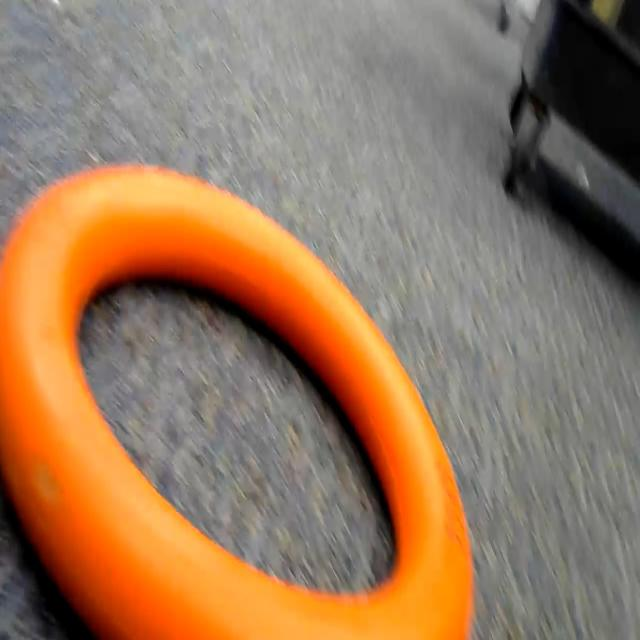note: (0, 154, 479, 640)
